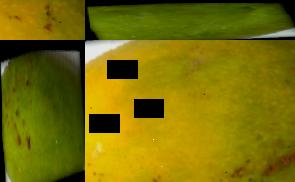PartiallyRipe: (85, 40, 295, 182), (0, 0, 85, 40)
Unripe: (0, 40, 85, 182), (85, 0, 295, 40)
